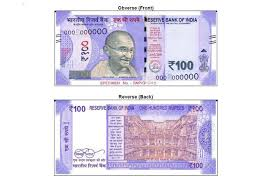hundred: (62, 23, 203, 75)
